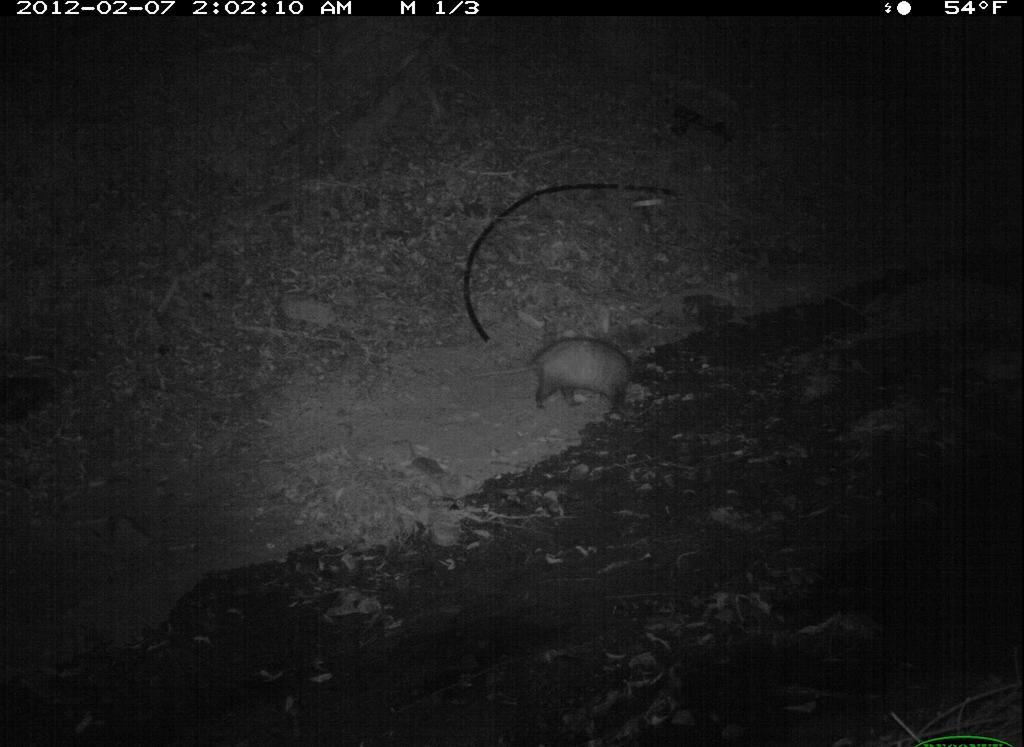opossum: (520, 328, 658, 434)
